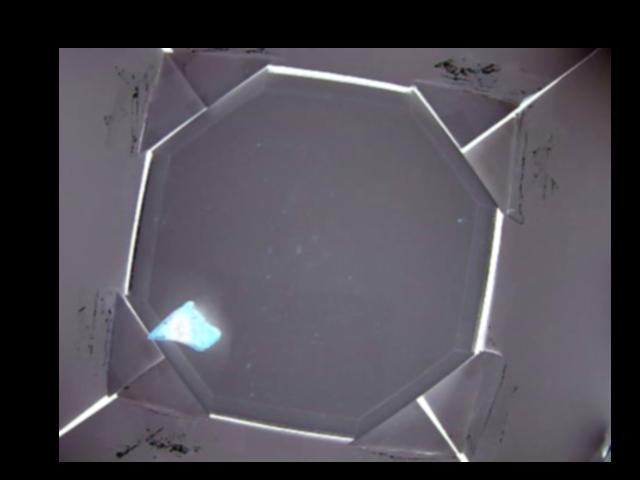Brisk: (146, 300, 221, 350)
